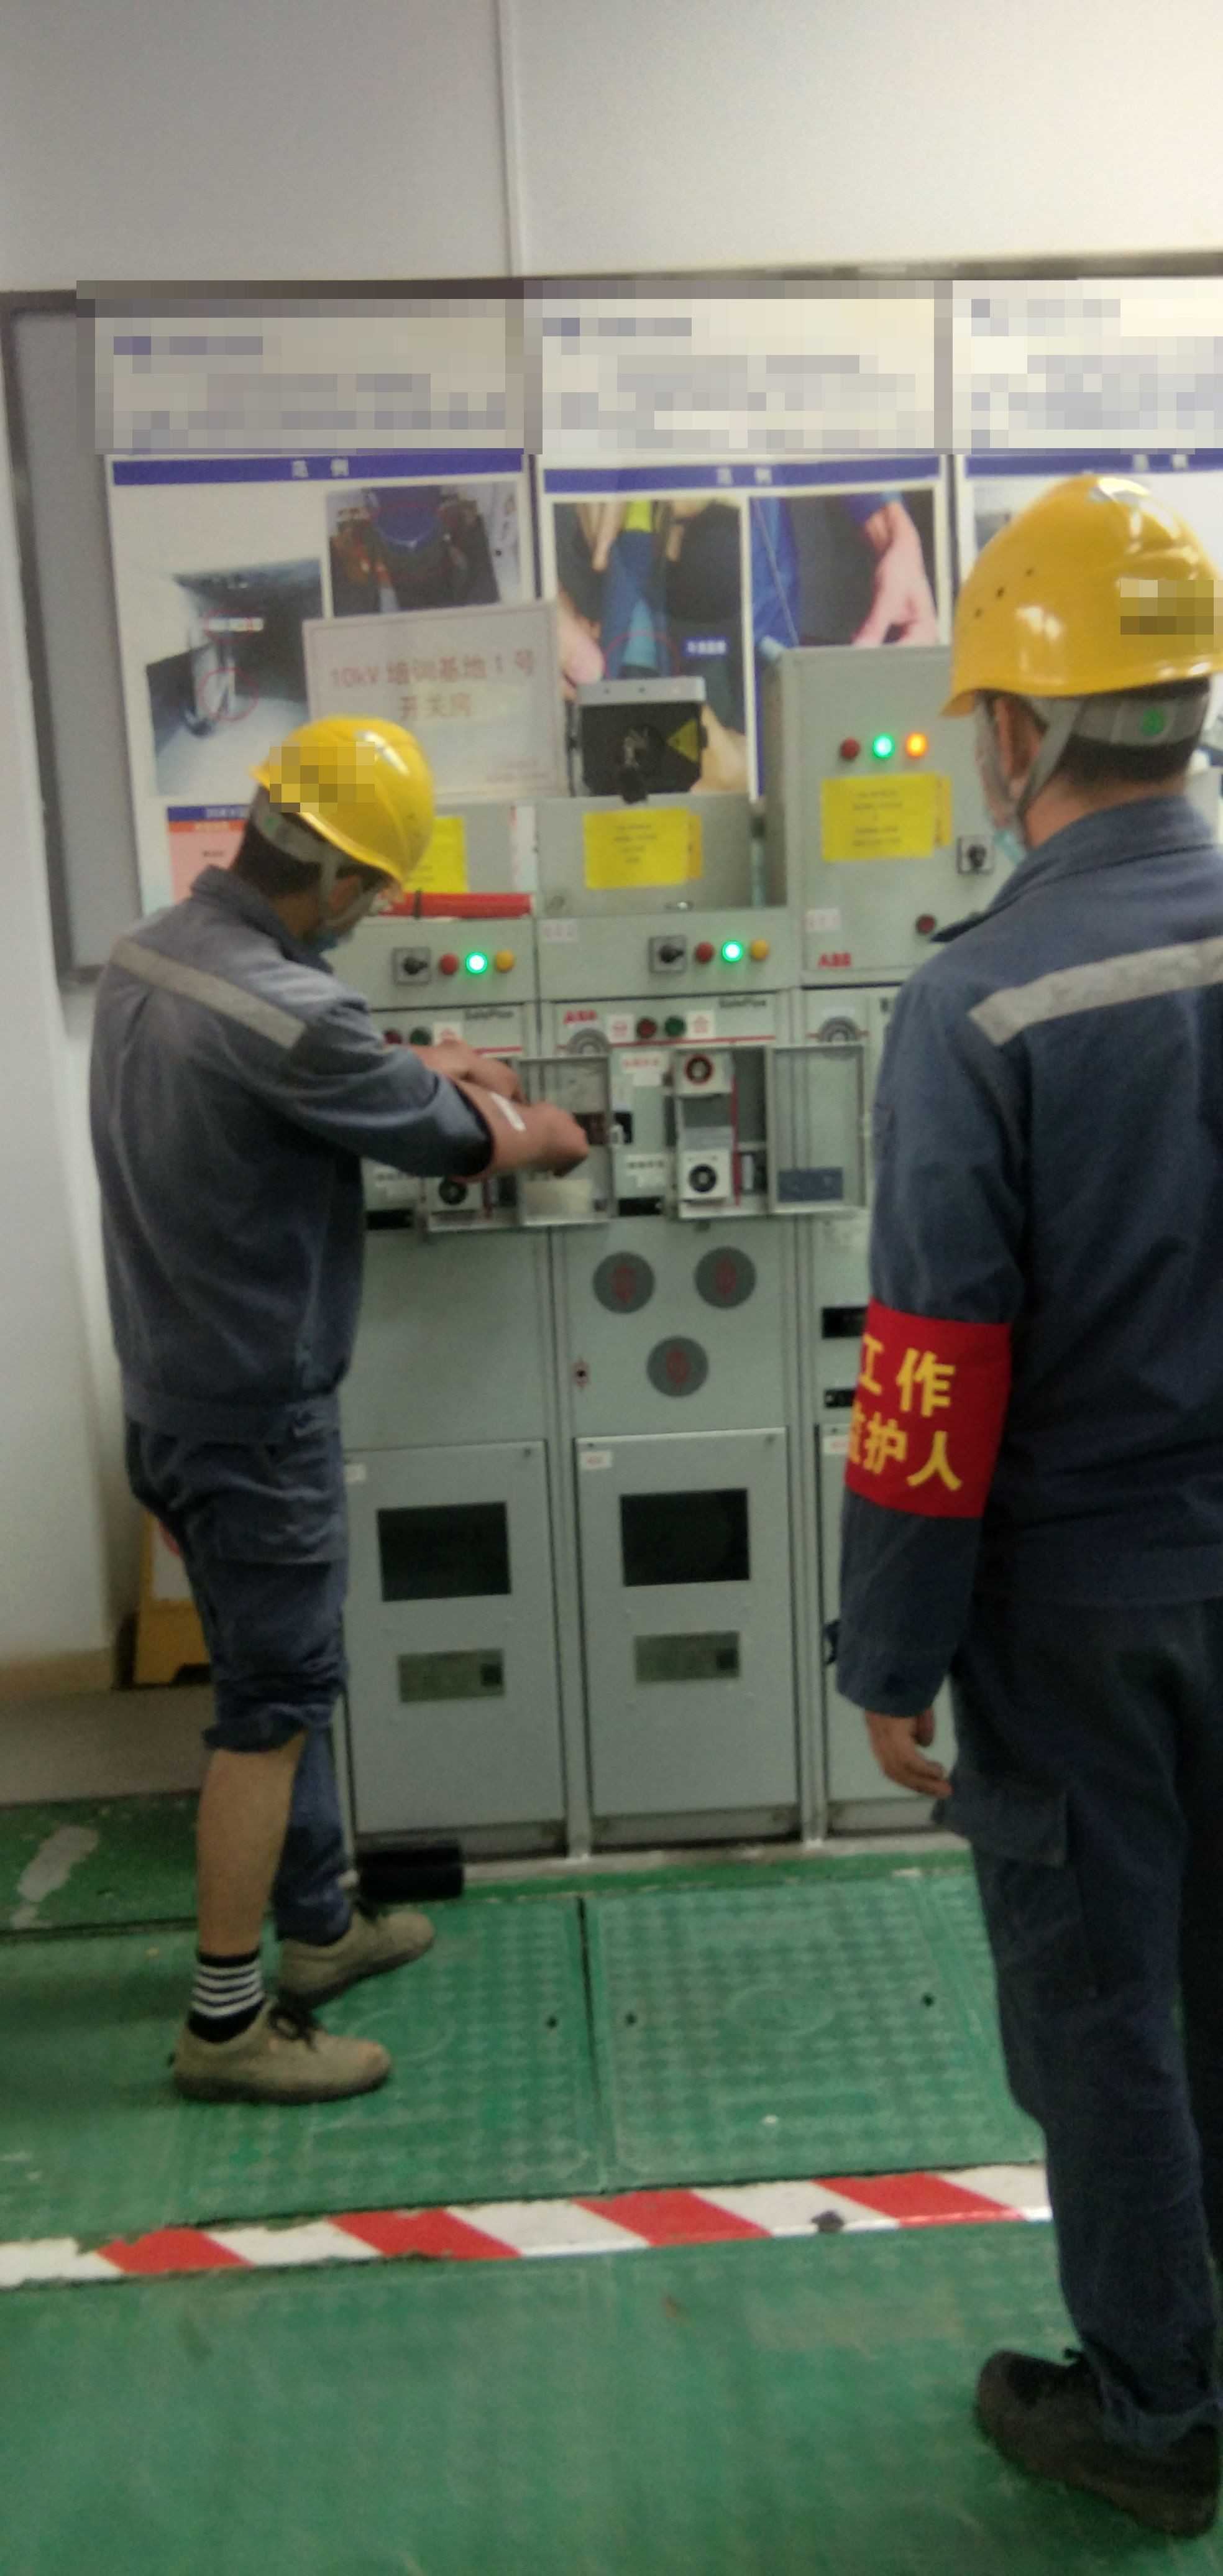downsuit: (954, 1633, 1223, 2430), (125, 1408, 363, 1988)
upsuit: (845, 813, 1223, 1628), (90, 879, 484, 1434)
wrongbottom: (172, 1722, 330, 2012)
